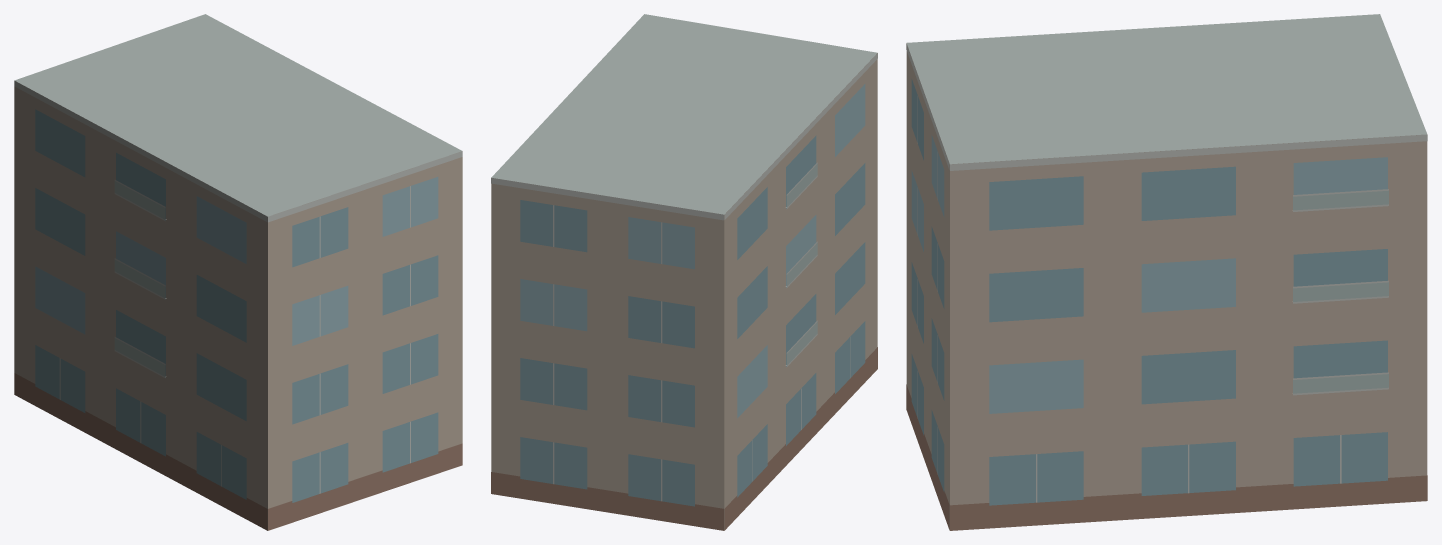
The model's file is survey-upis-32733670.glb.
3 renders of one model, left to right at view 1: azimuth 30°, elevation 25°; view 2: azimuth 150°, elevation 25°; view 3: azimuth 270°, elevation 25°, orthographic. The views are drawn at different scales.
Parts seen in each view (by area): view 1: survey-upis-32733670.tmp; view 2: survey-upis-32733670.tmp; view 3: survey-upis-32733670.tmp.
Part boxes in pixels (box(x1,y1,x2,y2)): survey-upis-32733670.tmp: box(14, 14, 462, 530); survey-upis-32733670.tmp: box(491, 14, 877, 530); survey-upis-32733670.tmp: box(906, 14, 1427, 530).
Bounding box in the file's own units: 11.61 × 13.2 × 17.01.
